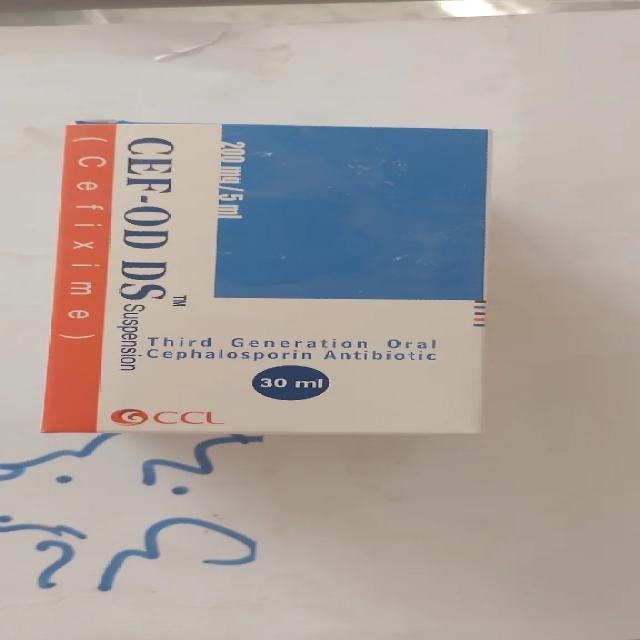drug-name: (118, 130, 176, 305)
